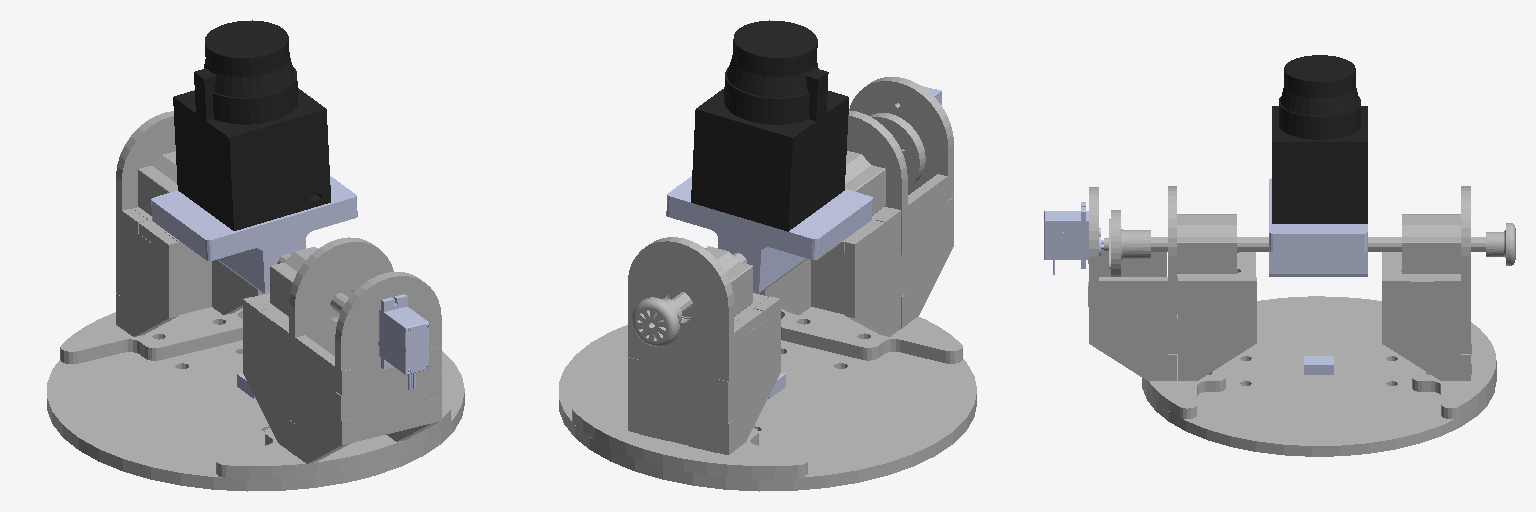
URDF robot description (lidarproyect):
<robot
  name="lidarproyect">
  <link
    name="point_cloud">
    <inertial>
      <origin
        xyz="-3.46944695195361E-18 -1.04083408558608E-17 0.00299999999999997"
        rpy="0 0 0" />
      <mass
        value="0.000900000000000001" />
      <inertia
        ixx="0"
        ixy="0"
        ixz="0"
        iyy="0"
        iyz="0"
        izz="0" />
    </inertial>
    <visual>
      <origin
        xyz="0 0 0"
        rpy="0 0 0" />
      <geometry>
        <mesh
          filename="package://lidarproyect/meshes/odom.STL" />
      </geometry>
      <material
        name="">
        <color
          rgba="0.792156862745098 0.819607843137255 0.933333333333333 1" />
      </material>
    </visual>
    <collision>
      <origin
        xyz="0 0 0"
        rpy="0 0 0" />
      <geometry>
        <mesh
          filename="package://lidarproyect/meshes/odom.STL" />
      </geometry>
    </collision>
  </link>
  <link
    name="base_link">
    <inertial>
      <origin
        xyz="2.65744117392691E-06 -0.00574956947789556 0.0438059662112648"
        rpy="0 0 0" />
      <mass
        value="0.607449074774275" />
      <inertia
        ixx="0.00246659690857758"
        ixy="1.33794700042527E-07"
        ixz="-2.50114018094108E-08"
        iyy="0.000665925453886521"
        iyz="1.98094620119954E-05"
        izz="0.00185828606888705" />
    </inertial>
    <visual>
      <origin
        xyz="0 0 0"
        rpy="0 0 0" />
      <geometry>
        <mesh
          filename="package://lidarproyect/meshes/base_link.STL" />
      </geometry>
      <material
        name="">
        <color
          rgba="0.752941176470588 0.752941176470588 0.752941176470588 1" />
      </material>
    </visual>
    <collision>
      <origin
        xyz="0 0 0"
        rpy="0 0 0" />
      <geometry>
        <mesh
          filename="package://lidarproyect/meshes/base_link.STL" />
      </geometry>
    </collision>
  </link>
  <joint
    name="base_joint"
    type="fixed">
    <origin
      xyz="0 0 0"
      rpy="0 0 0" />
    <parent
      link="point_cloud" />
    <child
      link="base_link" />
    <axis
      xyz="0 0 0" />
  </joint>
  <link
    name="basefootprint_link">
    <inertial>
      <origin
        xyz="-0.000790286815942499 -0.0253038027589208 -6.60483057135508E-10"
        rpy="0 0 0" />
      <mass
        value="0.0191238781580437" />
      <inertia
        ixx="7.87682319144907E-05"
        ixy="-1.21490722807687E-09"
        ixz="8.57898685901679E-16"
        iyy="2.71910667678979E-11"
        iyz="1.42532177166651E-12"
        izz="7.87682591055574E-05" />
    </inertial>
    <visual>
      <origin
        xyz="0 0 0"
        rpy="0 0 0" />
      <geometry>
        <mesh
          filename="package://lidarproyect/meshes/basefootprint_link.STL" />
      </geometry>
      <material
        name="">
        <color
          rgba="0.752941176470588 0.752941176470588 0.752941176470588 1" />
      </material>
    </visual>
    <collision>
      <origin
        xyz="0 0 0"
        rpy="0 0 0" />
      <geometry>
        <mesh
          filename="package://lidarproyect/meshes/basefootprint_link.STL" />
      </geometry>
    </collision>
  </link>
  <joint
    name="basefootprint_joint"
    type="continuous">
    <origin
      xyz="0.000822896120312387 -0.000380992435477512 0.0710337331592538"
      rpy="-1.38355013240819E-14 -0.0409702778916442 4.09303726047228E-15" />
    <parent
      link="base_link" />
    <child
      link="basefootprint_link" />
    <axis
      xyz="0 1 0" />
  </joint>
  <link
    name="lidarbase_link">
    <inertial>
      <origin
        xyz="-1.73472347597681E-18 0 0.00914563543043143"
        rpy="0 0 0" />
      <mass
        value="0.0616993449362789" />
      <inertia
        ixx="0"
        ixy="0"
        ixz="0"
        iyy="0"
        iyz="0"
        izz="0" />
    </inertial>
    <visual>
      <origin
        xyz="0 0 0"
        rpy="0 0 0" />
      <geometry>
        <mesh
          filename="package://lidarproyect/meshes/lidarbase_link.STL" />
      </geometry>
      <material
        name="">
        <color
          rgba="0.792156862745098 0.819607843137255 0.933333333333333 1" />
      </material>
    </visual>
    <collision>
      <origin
        xyz="0 0 0"
        rpy="0 0 0" />
      <geometry>
        <mesh
          filename="package://lidarproyect/meshes/lidarbase_link.STL" />
      </geometry>
    </collision>
  </link>
  <joint
    name="lidarbase_joint"
    type="fixed">
    <origin
      xyz="-0.000823587245446634 0 0"
      rpy="1.20979598697061E-14 -0.0111812003143721 -6.82242770739922E-15" />
    <parent
      link="basefootprint_link" />
    <child
      link="lidarbase_link" />
    <axis
      xyz="0 1 0" />
  </joint>
  <link
    name="laser">
    <inertial>
      <origin
        xyz="-0.000121012357977957 1.23592808066696E-05 -0.0293214813330345"
        rpy="0 0 0" />
      <mass
        value="0.142947282569696" />
      <inertia
        ixx="0"
        ixy="0"
        ixz="0"
        iyy="0"
        iyz="0"
        izz="0" />
    </inertial>
    <visual>
      <origin
        xyz="0 0 0"
        rpy="0 0 0" />
      <geometry>
        <mesh
          filename="package://lidarproyect/meshes/lidar_link.STL" />
      </geometry>
      <material
        name="">
        <color
          rgba="0.196078431372549 0.196078431372549 0.196078431372549 1" />
      </material>
    </visual>
    <collision>
      <origin
        xyz="0 0 0"
        rpy="0 0 0" />
      <geometry>
        <mesh
          filename="package://lidarproyect/meshes/lidar_link.STL" />
      </geometry>
    </collision>
  </link>
  <joint
    name="laser_joint"
    type="fixed">
    <origin
      xyz="0.000800000000000042 0.0008 0.0825"
      rpy="-1.38050658413677E-30 -6.93889390390723E-18 2.95822839457879E-31" />
    <parent
      link="lidarbase_link" />
    <child
      link="laser" />
    <axis
      xyz="0 1 0" />
  </joint>
  <link
    name="motor_link">
    <inertial>
      <origin
        xyz="-0.0106344277675477 -0.0094247807316442 0.00600021268987943"
        rpy="0 0 0" />
      <mass
        value="0.00715036184985687" />
      <inertia
        ixx="0"
        ixy="0"
        ixz="0"
        iyy="0"
        iyz="0"
        izz="0" />
    </inertial>
    <visual>
      <origin
        xyz="0 0 0"
        rpy="0 0 0" />
      <geometry>
        <mesh
          filename="package://lidarproyect/meshes/motor_link.STL" />
      </geometry>
      <material
        name="">
        <color
          rgba="0.792156862745098 0.819607843137255 0.933333333333333 1" />
      </material>
    </visual>
    <collision>
      <origin
        xyz="0 0 0"
        rpy="0 0 0" />
      <geometry>
        <mesh
          filename="package://lidarproyect/meshes/motor_link.STL" />
      </geometry>
    </collision>
  </link>
  <joint
    name="motor_joint"
    type="fixed">
    <origin
      xyz="-0.00600000000000235 -0.116680992435477 0.0647999999999999"
      rpy="0 1.5707963267949 0" />
    <parent
      link="point_cloud" />
    <child
      link="motor_link" />
    <axis
      xyz="0 0 0" />
  </joint>
<!-- sensor -->
<sensor name="head_hokuyo_sensor" type="ray">
      <pose>0.025 0 0 0 0 0</pose>
      <visualize>false</visualize>
      <update_rate>40</update_rate>
      <ray>
        <scan>
          <horizontal>
            <samples>720</samples>
            <resolution>0,24</resolution>
            <min_angle>-1.570796</min_angle>
            <max_angle>1.570796</max_angle>
          </horizontal>
        </scan>
        <range>
          <min>0.10</min>
          <max>10.0</max>
          <resolution>0.001</resolution>
        </range>
      </ray>
      <plugin filename="libgazebo_ros_laser.so" name="gazebo_ros_head_hokuyo_controller">
        <topicName>/scan</topicName>
        <frameName>laser</frameName>
      </plugin>
    </sensor>
</robot>

--- Render facts (derived) ---
Views: 3 orthographic renders of the robot side by side, from view 1: azimuth 30°, elevation 25°; view 2: azimuth 150°, elevation 25°; view 3: azimuth 270°, elevation 25°.
Robot: lidarproyect — 6 links, 5 joints (1 continuous, 4 fixed); root link point_cloud; default pose: all joints at 0.
Links seen in each view (by area): view 1: base_link, laser, lidarbase_link, motor_link; view 2: base_link, laser, lidarbase_link, basefootprint_link; view 3: base_link, laser, lidarbase_link, basefootprint_link, motor_link, point_cloud.
Link boxes in pixels (x1=…): base_link: x1=47, y1=111, x2=464, y2=491; laser: x1=173, y1=20, x2=330, y2=230; lidarbase_link: x1=151, y1=176, x2=357, y2=293; motor_link: x1=378, y1=294, x2=428, y2=390; base_link: x1=559, y1=77, x2=976, y2=491; laser: x1=691, y1=20, x2=848, y2=231; lidarbase_link: x1=666, y1=176, x2=872, y2=293; basefootprint_link: x1=632, y1=113, x2=925, y2=346; base_link: x1=1088, y1=186, x2=1496, y2=456; laser: x1=1272, y1=55, x2=1367, y2=223; lidarbase_link: x1=1269, y1=178, x2=1367, y2=276; basefootprint_link: x1=1104, y1=210, x2=1515, y2=276; motor_link: x1=1044, y1=202, x2=1103, y2=274; point_cloud: x1=1304, y1=356, x2=1333, y2=374.
Bounding box of the posed robot: 0.1799 × 0.2389 × 0.1744 m (x, y, z).
6 mesh visuals loaded from 6 distinct referenced files (6 binary STL).
